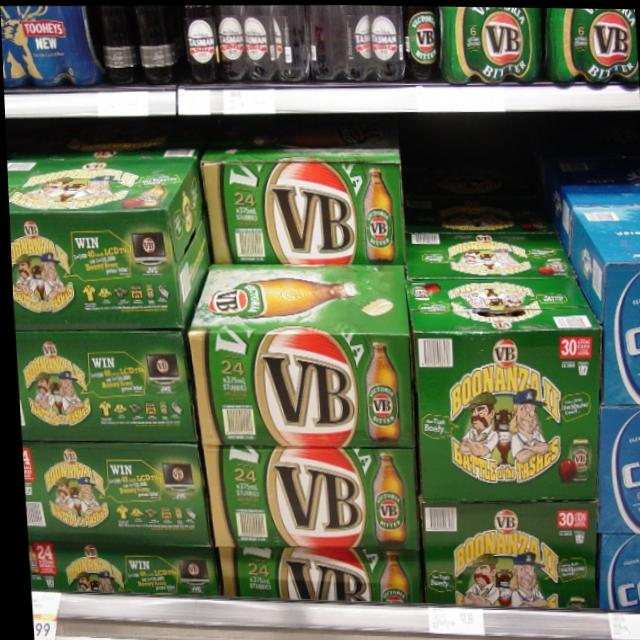q291: (541, 6, 639, 95), (439, 5, 540, 89)
